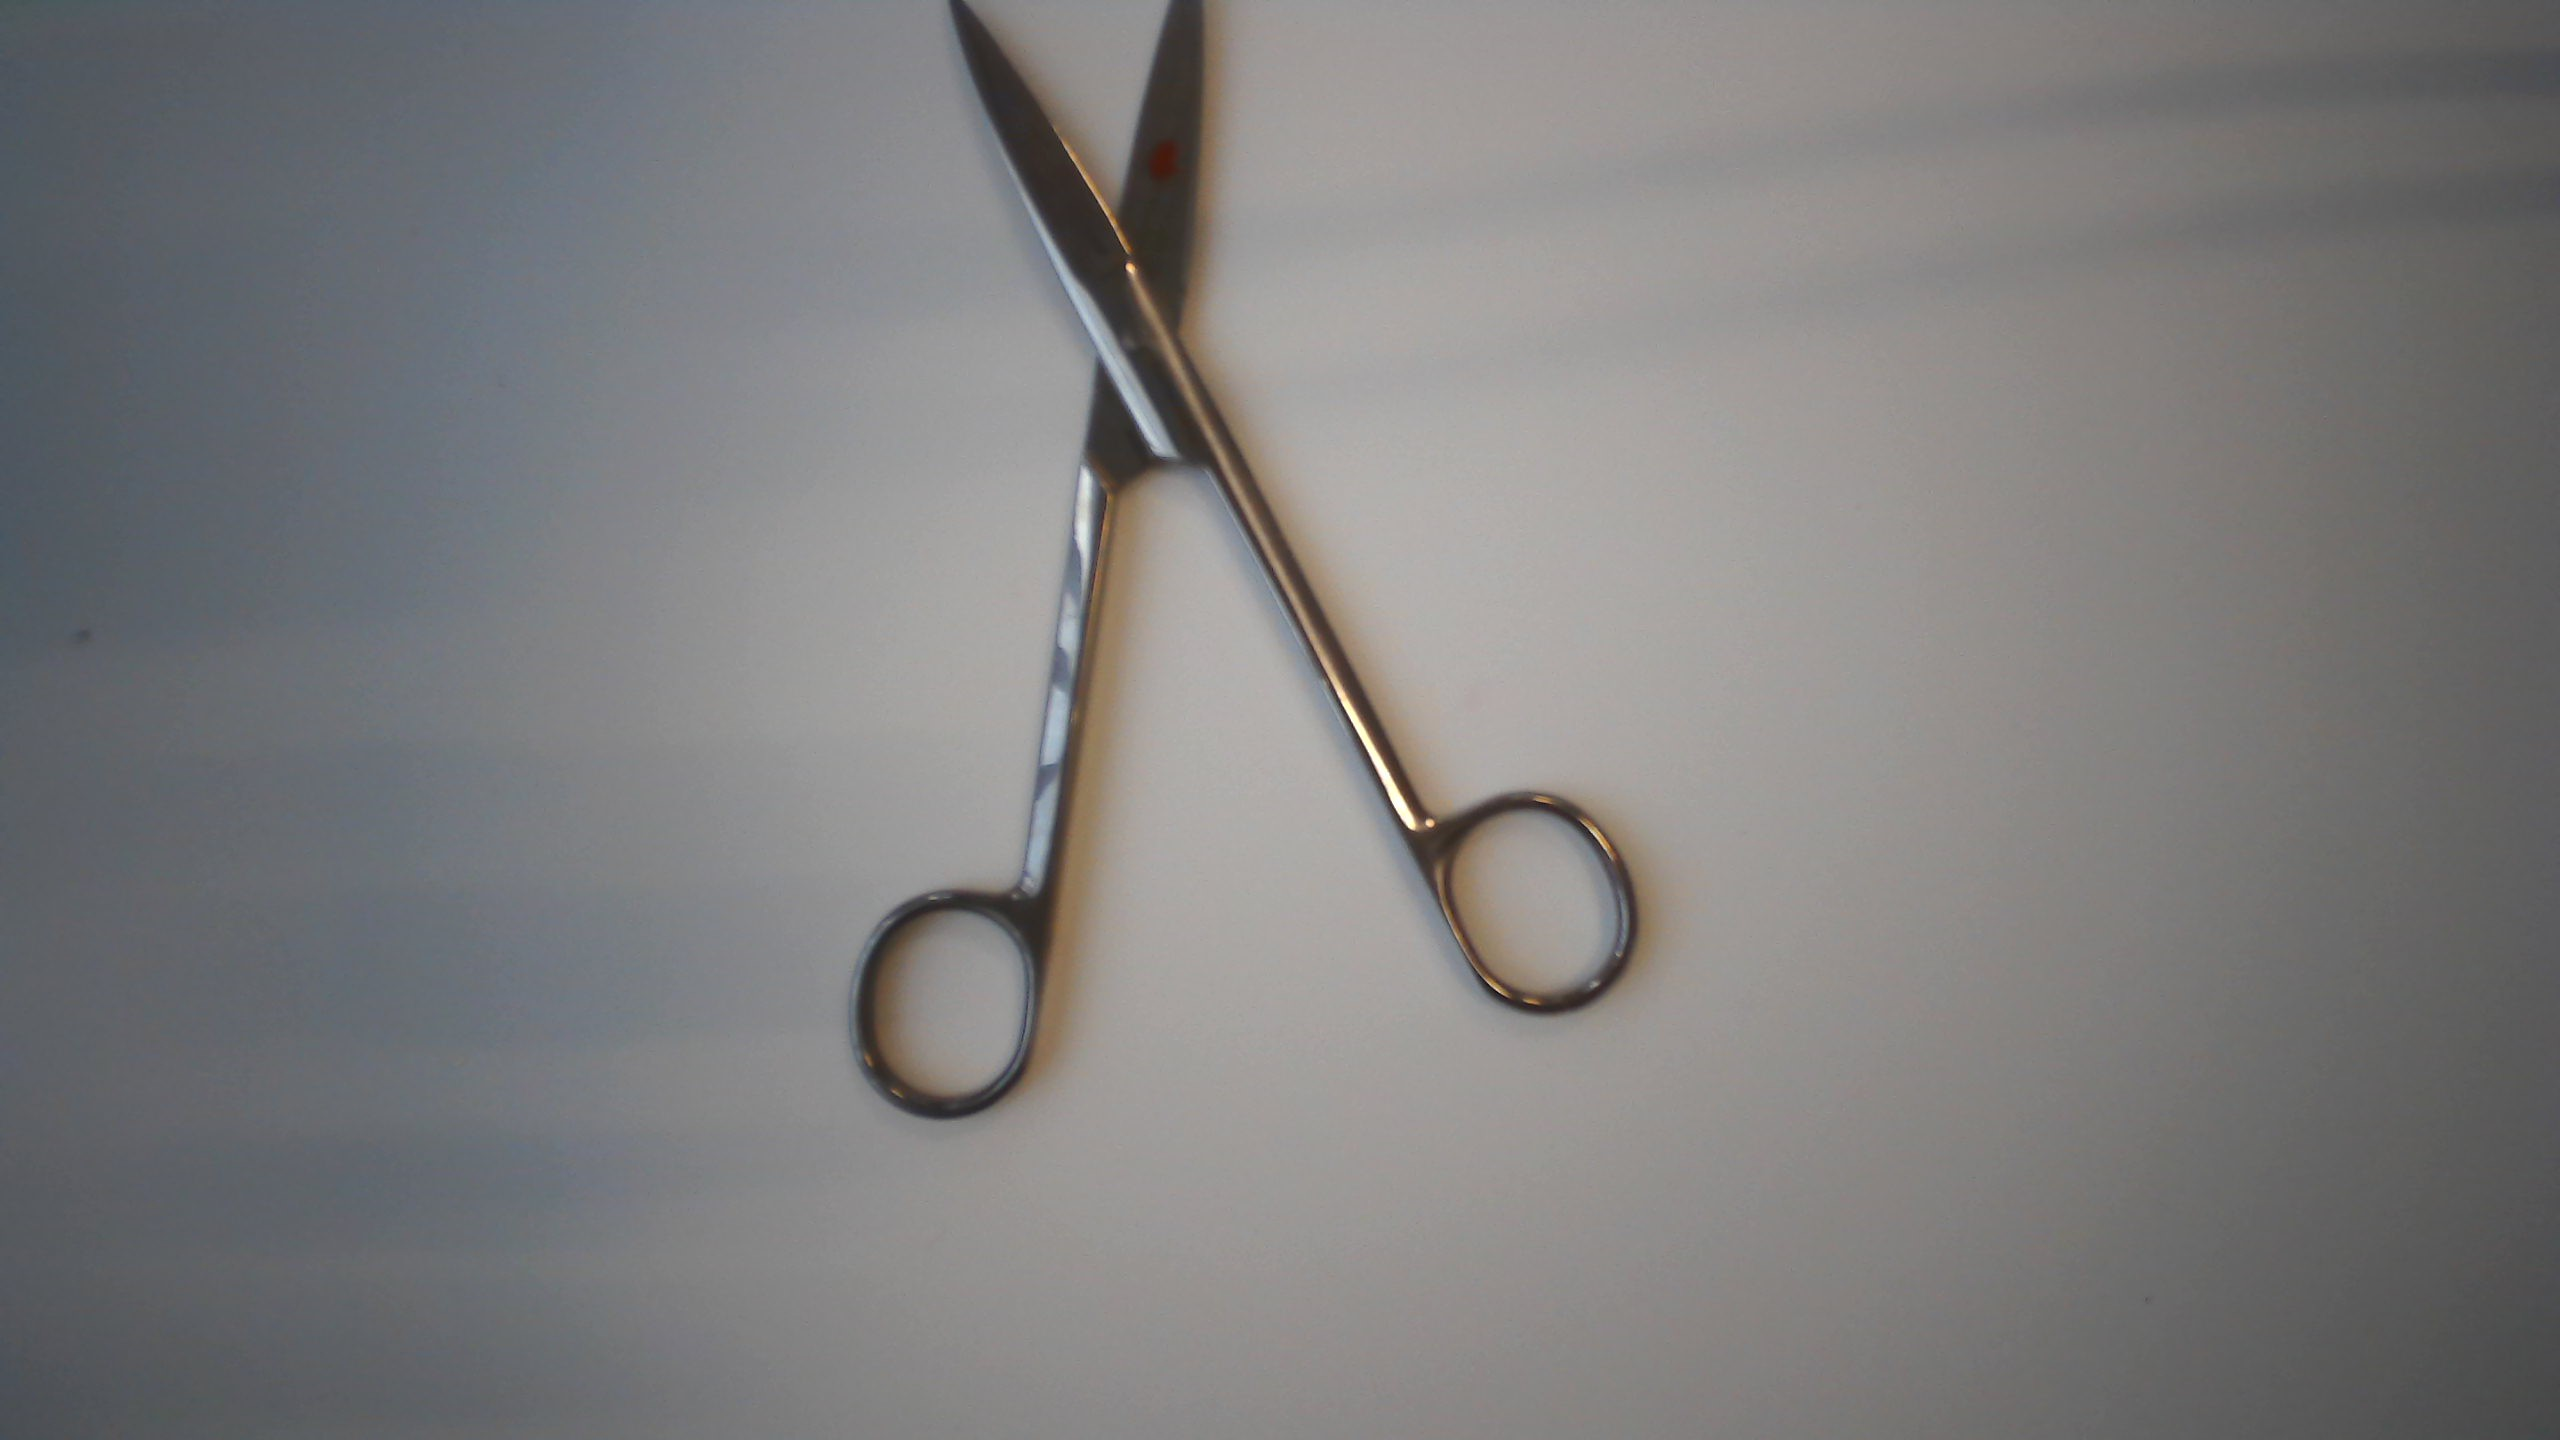Stain: (1141, 135, 1194, 183)
